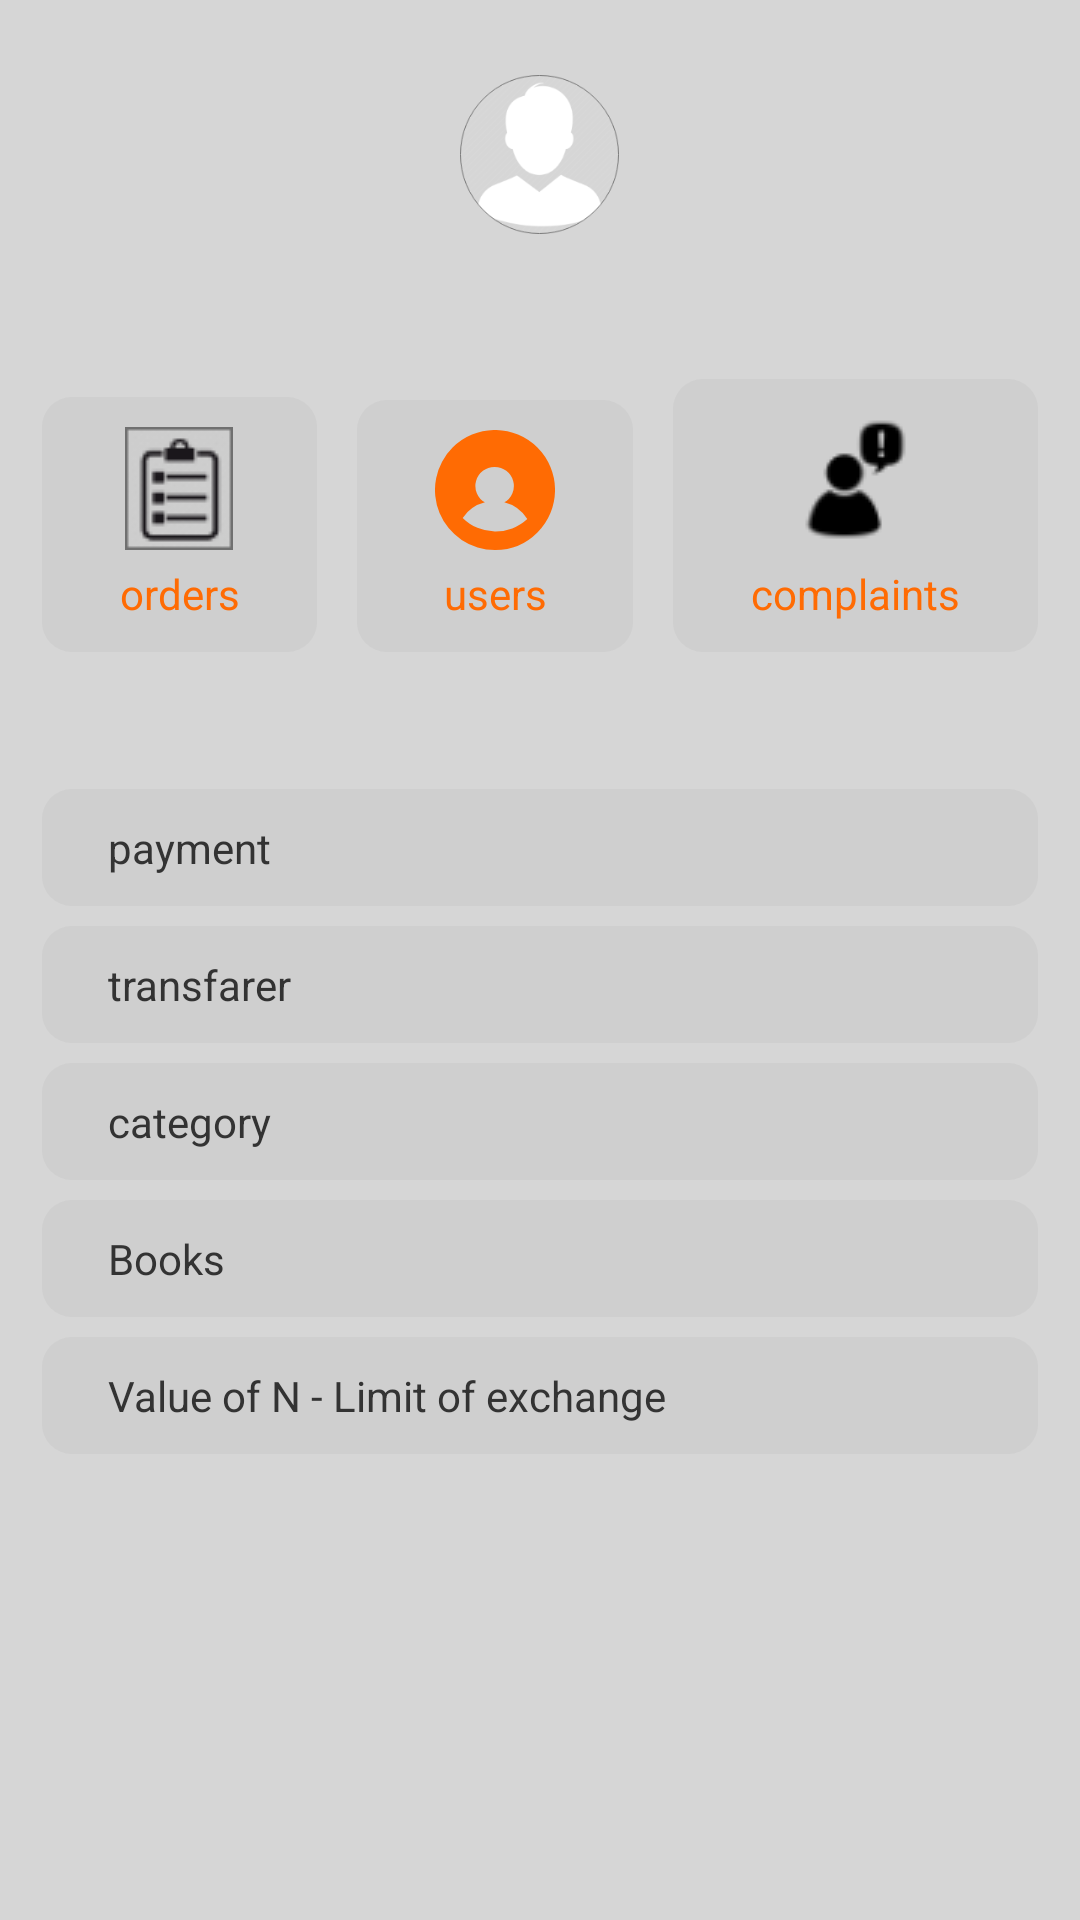

Locate icon controls on the screen. Image size 1080px×1920px, boxes as (x1, y1, x2, y2).
profile: (460, 75, 619, 234)
